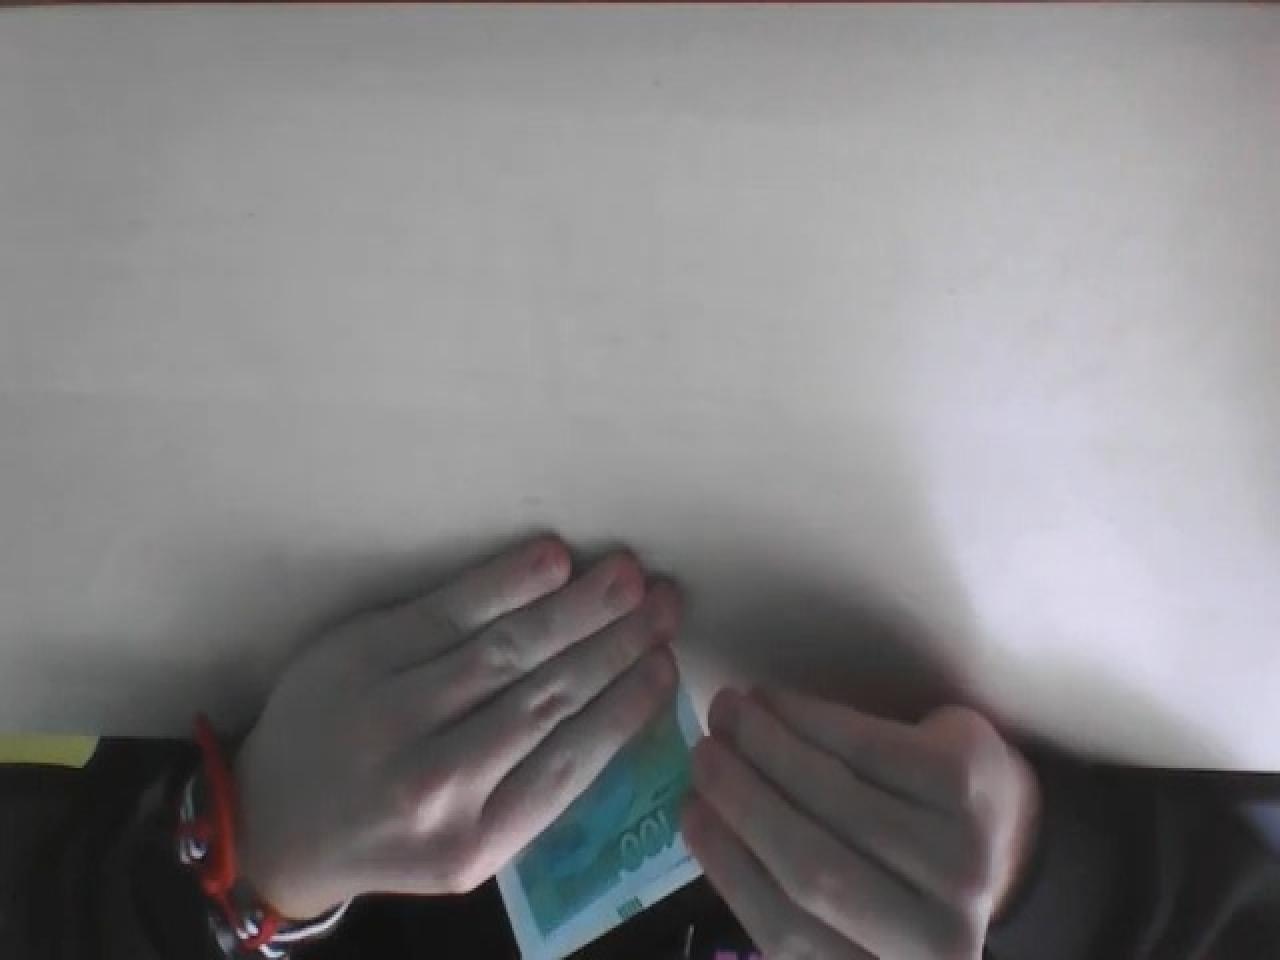100leva: (494, 709, 752, 960)
